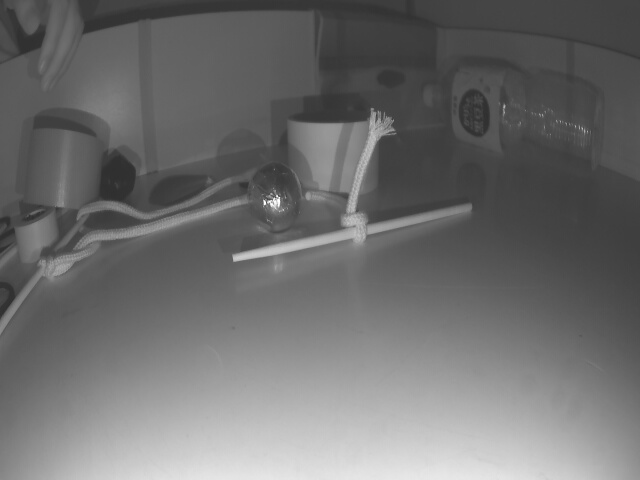Dead: (98, 153, 137, 199)
Live: (248, 165, 303, 229)
